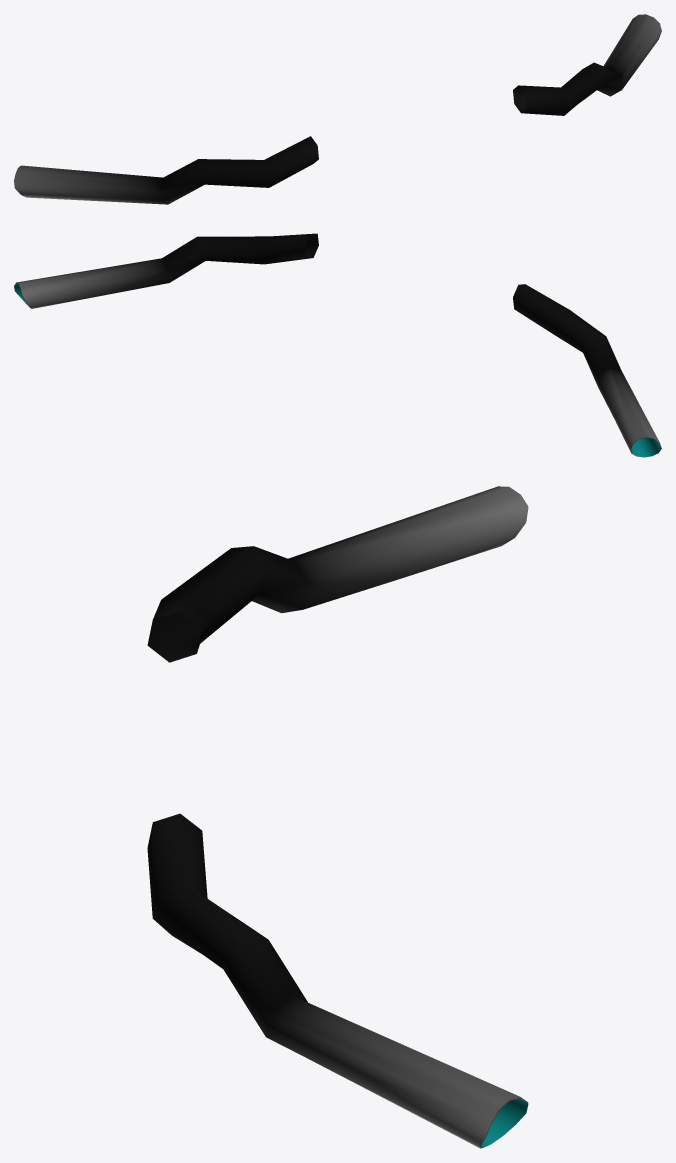
Rendered from Car_Buick_GrandNational_1987_Exhausts_SetA.fbx.
3 views of the same model, one above another, from view 1: azimuth 30°, elevation 25°; view 2: azimuth 150°, elevation 25°; view 3: azimuth 270°, elevation 25° (orthographic). The views are drawn at different scales.
Parts seen in each view (by area): view 1: Exhausts 6; view 2: Exhausts 6; view 3: Exhausts 6.
Boxes of the visible parts, box(x1,y1,x2,y2) form: Exhausts 6: box(14, 14, 661, 204); Exhausts 6: box(14, 233, 661, 457); Exhausts 6: box(147, 486, 528, 1148).
Size of the model in its own units: 1.62 by 0.1602 by 0.4146.
